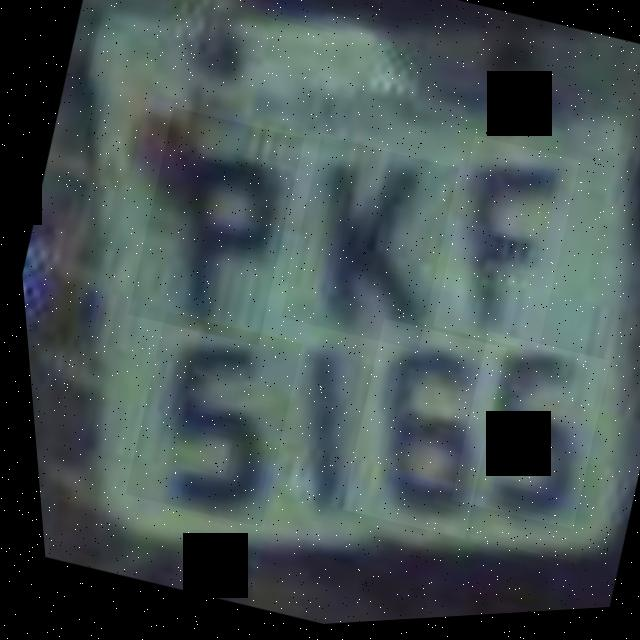1: (237, 317, 400, 529)
5: (105, 306, 309, 536), (431, 331, 613, 541)
6: (320, 317, 512, 550)
F: (414, 136, 588, 363)
K: (263, 132, 466, 361)
P: (109, 103, 313, 354)
